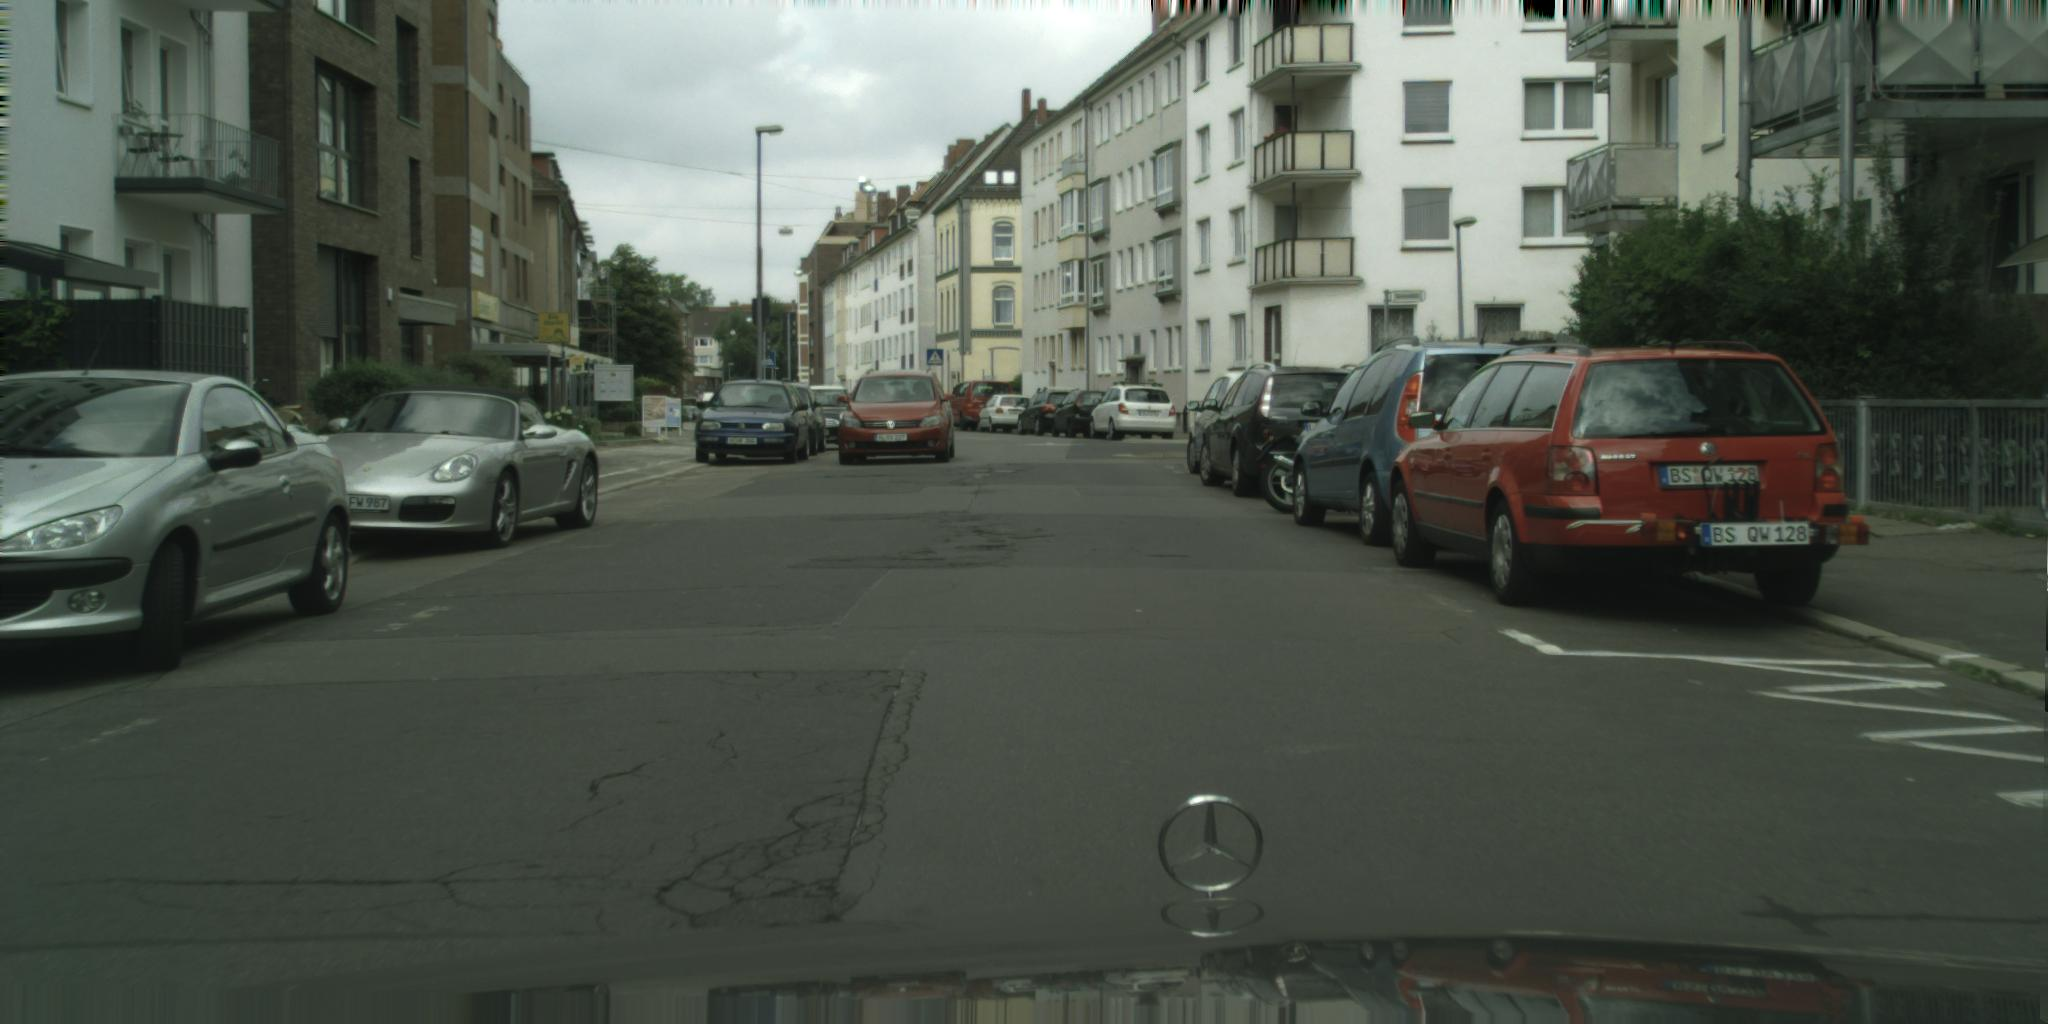car: (1390, 342, 1870, 609), (1, 328, 353, 671), (1293, 296, 1566, 549), (243, 387, 600, 549), (1200, 363, 1364, 499), (839, 368, 956, 466), (695, 377, 811, 465), (1186, 371, 1266, 475), (1089, 380, 1178, 441), (797, 387, 857, 448), (943, 381, 1014, 432), (778, 383, 827, 456), (1017, 387, 1081, 438), (1051, 389, 1112, 439), (977, 394, 1034, 434), (695, 392, 720, 414)
motorcycle: (1256, 424, 1341, 515)
